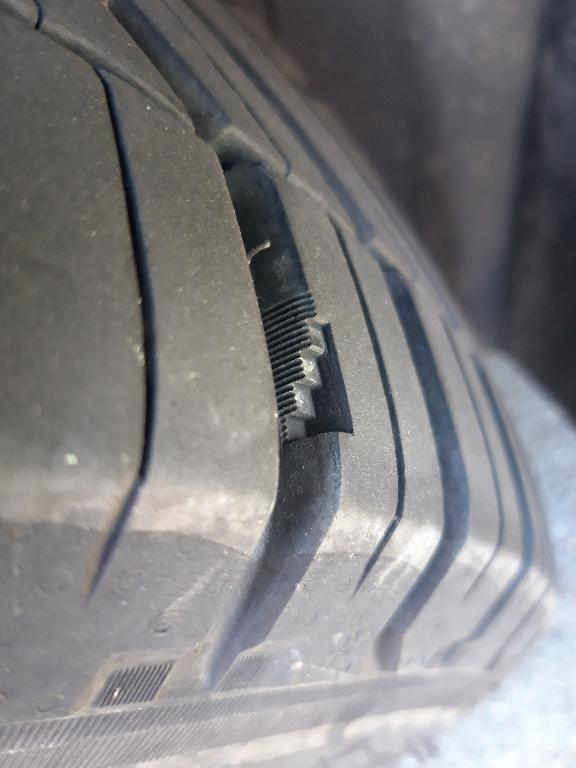temoin:90: (255, 286, 361, 452)
